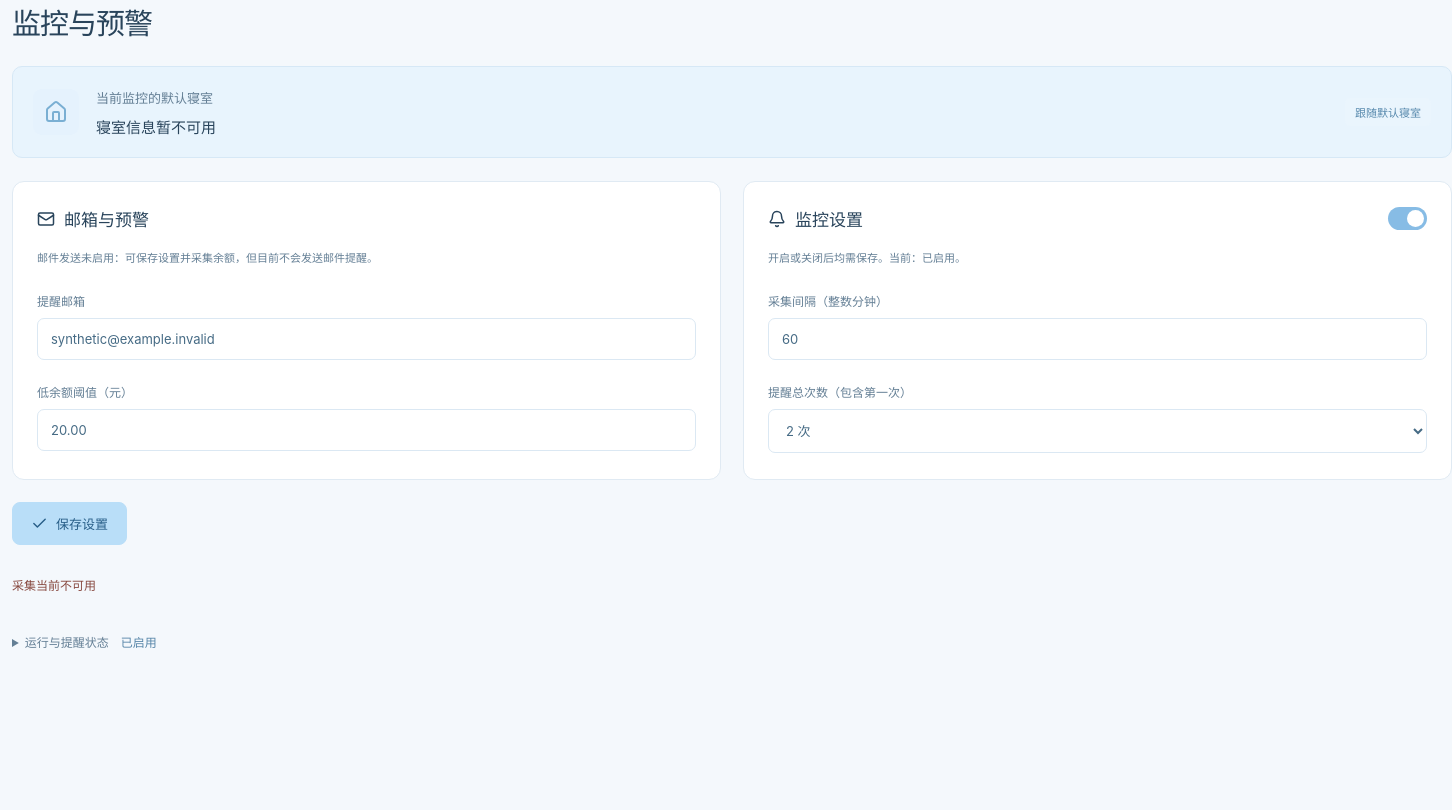
Test case: 无效草稿不影响只提交enabled:false的关闭，保留未保存字段
Replace the text in the field labelled "采集间隔（整数分钟）" with "60.5" at (1098, 339), box [768, 318, 1427, 360]
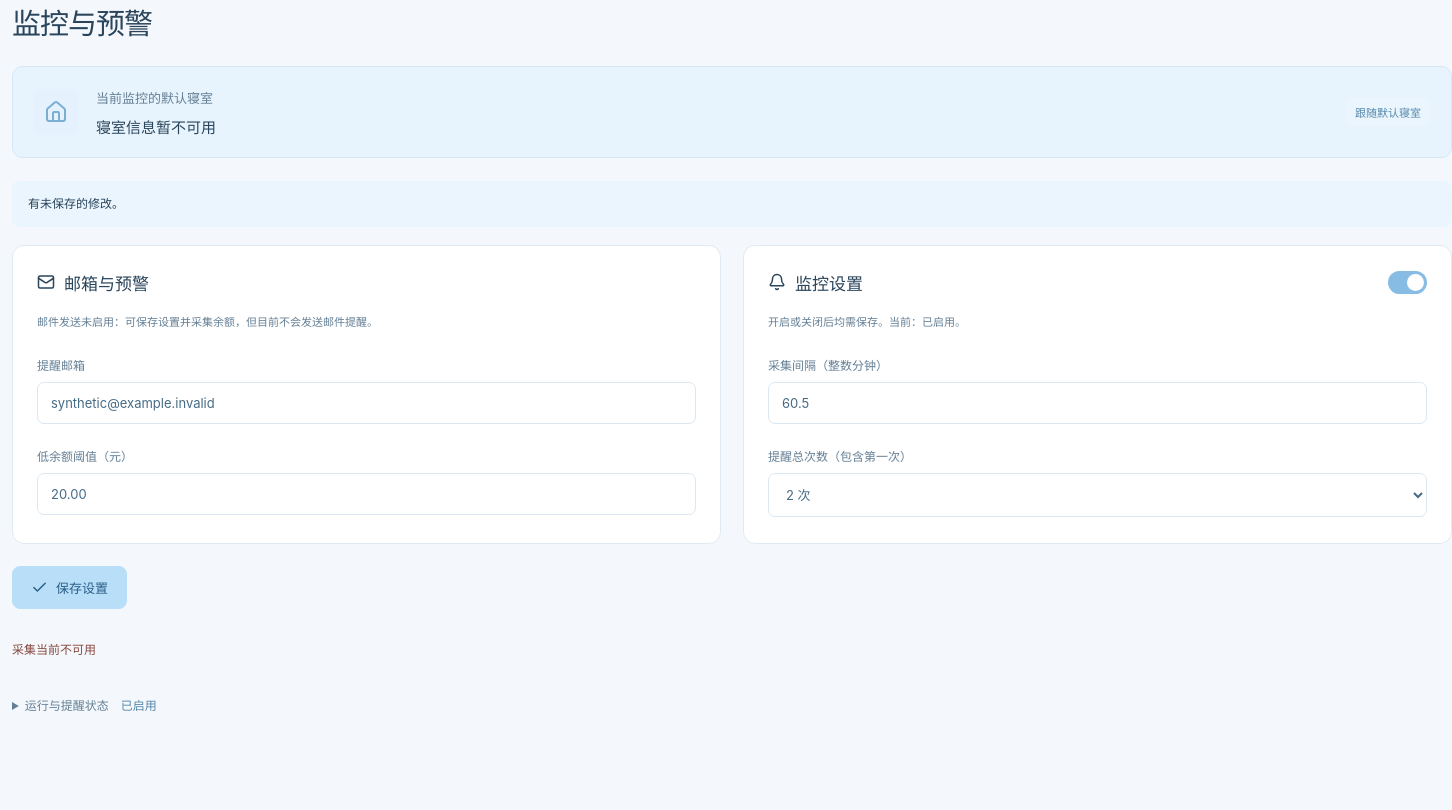
Replace the text in the field labelled "提醒邮箱" with "invalid" at (366, 403), box [37, 382, 696, 424]
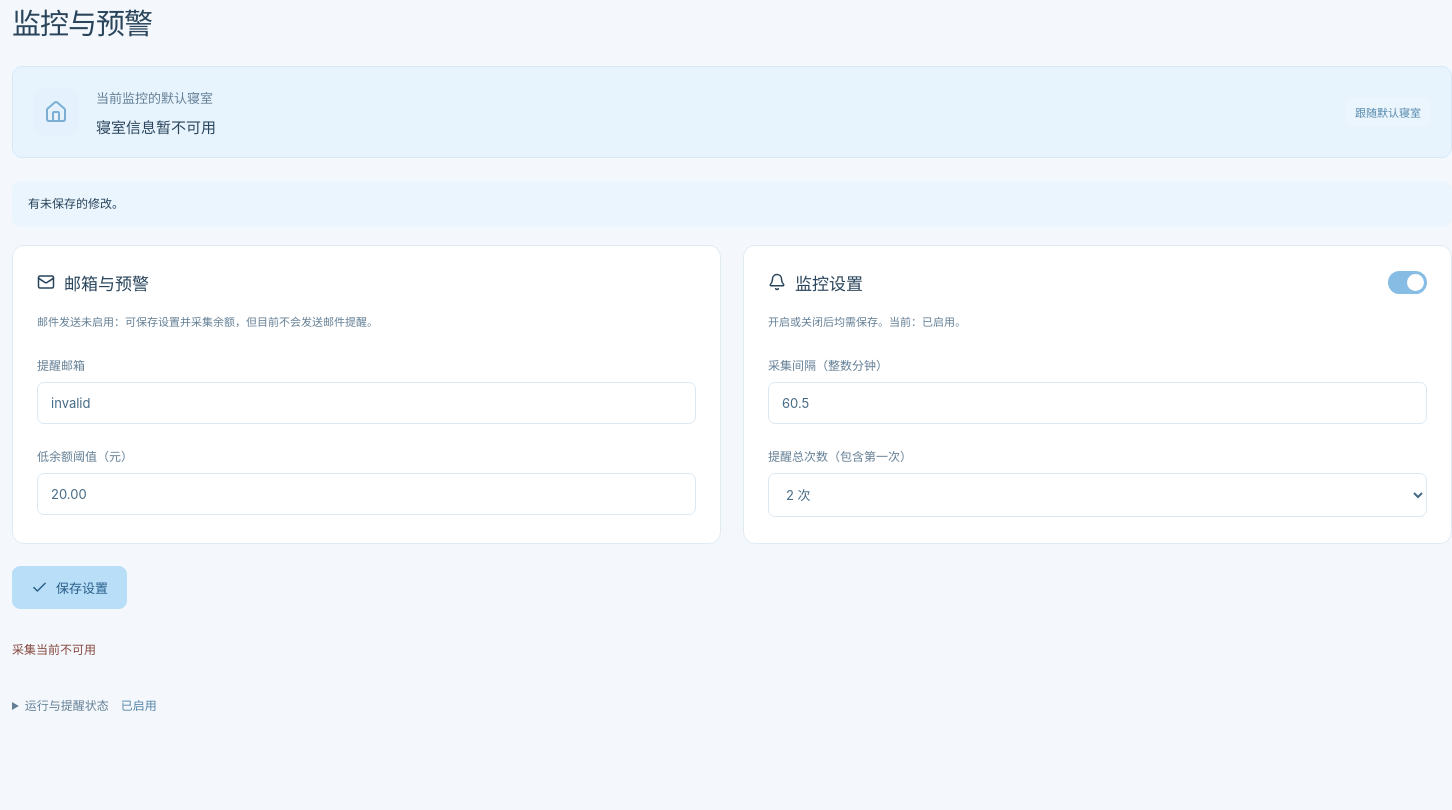
Click the checkbox named "启用监控" at (1408, 282), box [1388, 271, 1427, 294]
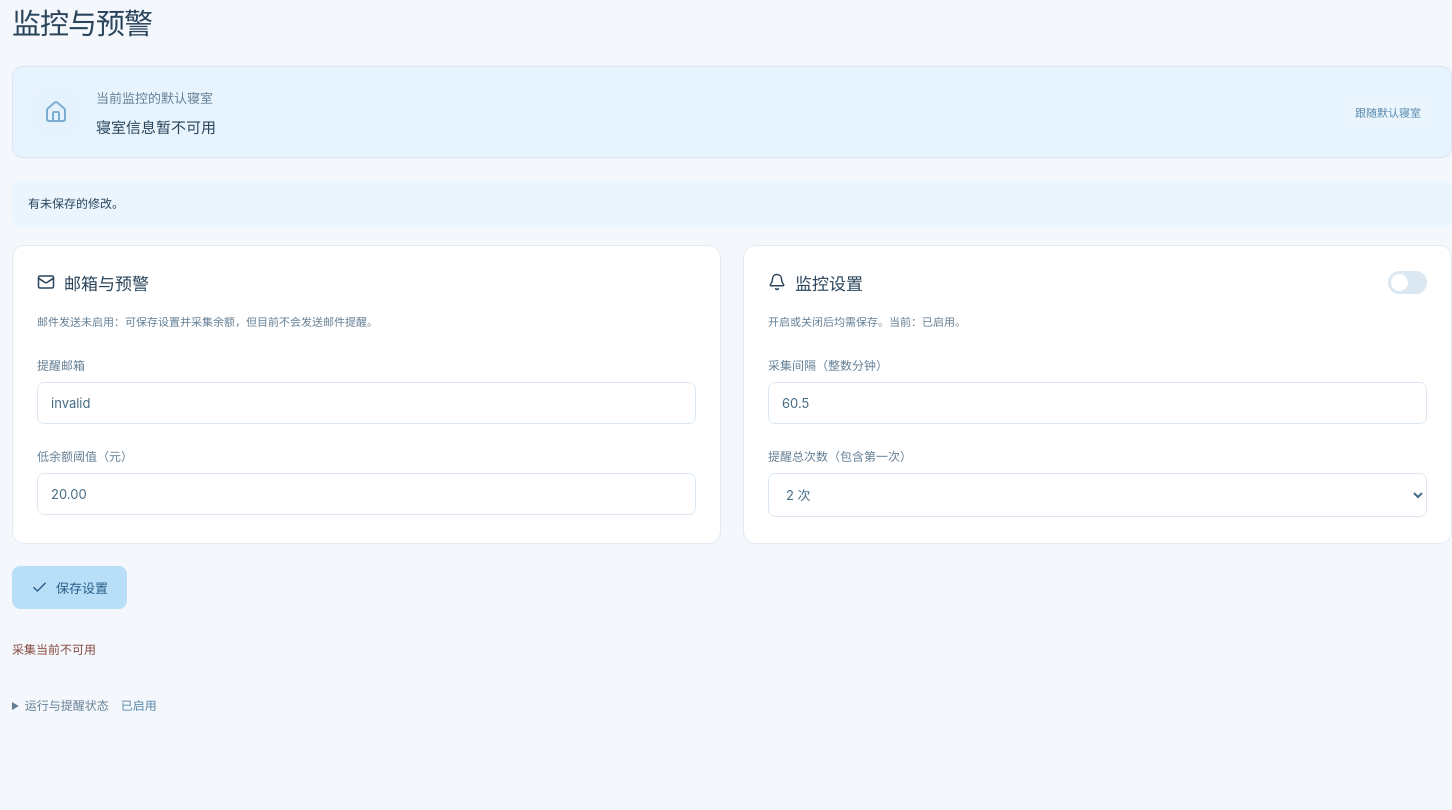
Click the button "保存设置" at (70, 587), box [12, 566, 127, 609]
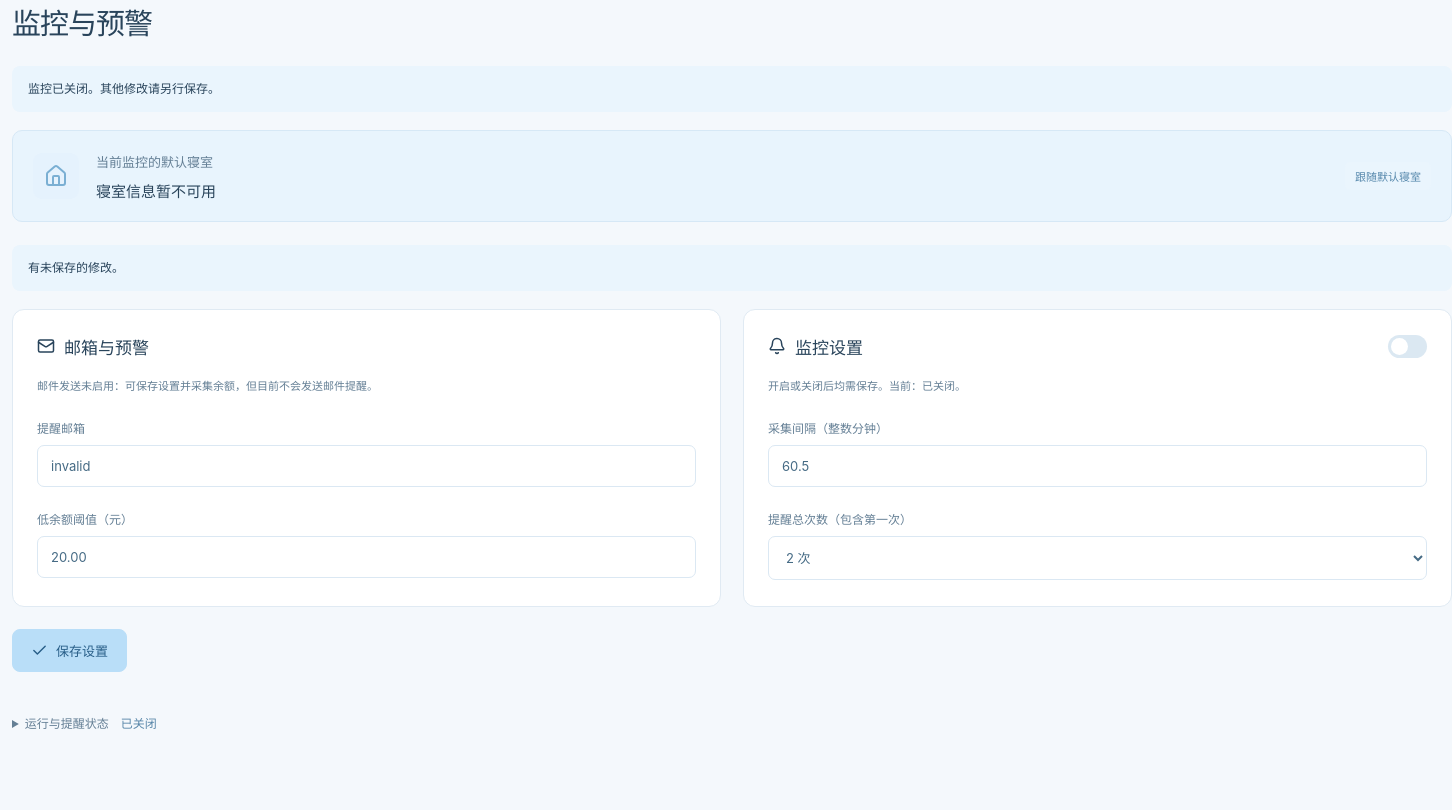
Check: the checkbox named "启用监控" is not checked, box [1388, 335, 1427, 358]
Check: the text "监控已关闭。其他修改请另行保存。" is shown, box [12, 66, 1451, 112]
